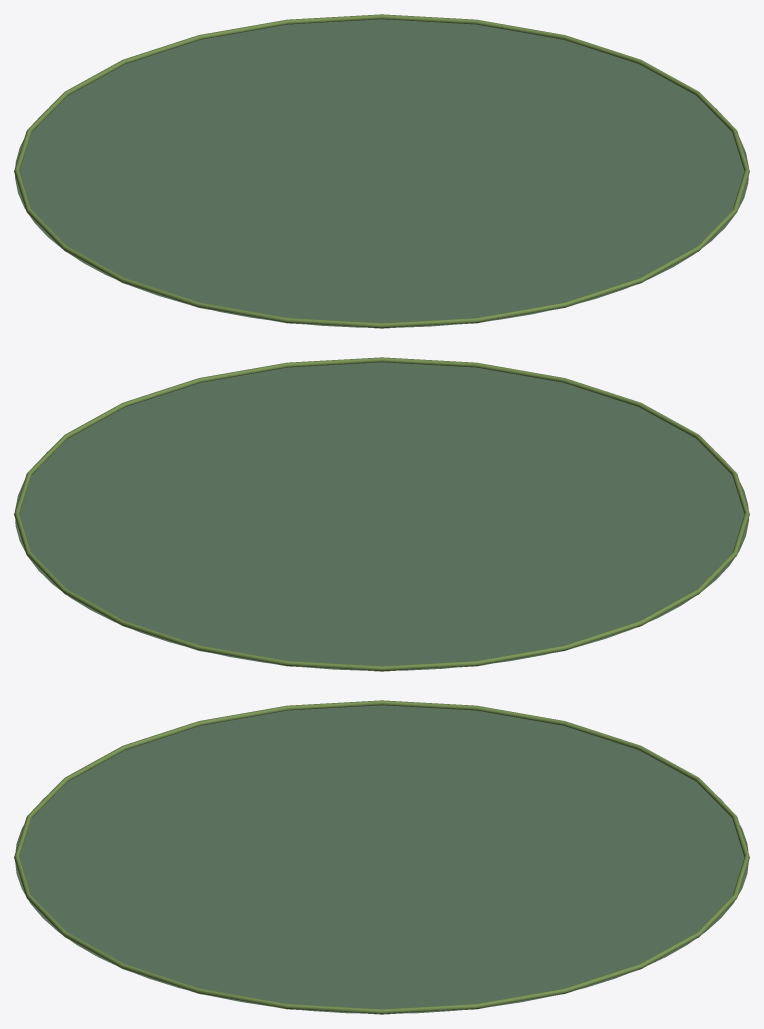
The model's file is shelter_marker.glb.
3 renders of one model, top to bottom at view 1: azimuth 30°, elevation 25°; view 2: azimuth 150°, elevation 25°; view 3: azimuth 270°, elevation 25°, orthographic.
Parts seen in each view (by area): view 1: ShelterInlay; view 2: ShelterInlay; view 3: ShelterInlay.
Boxes of the visible parts, bbox=[...] form: ShelterInlay: bbox=[14, 14, 749, 328]; ShelterInlay: bbox=[14, 357, 749, 671]; ShelterInlay: bbox=[14, 700, 749, 1014].
Size of the model in its own units: 3.71 by 0.0242 by 3.71.
